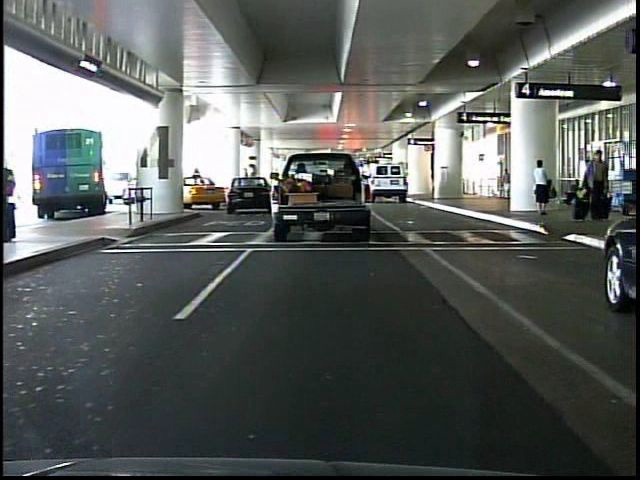person: (580, 145, 612, 224), (530, 155, 554, 216), (580, 154, 603, 211)
